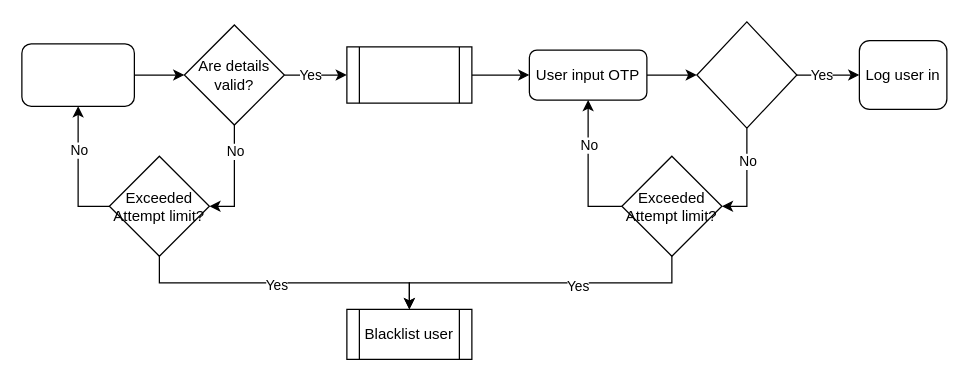
Image size: 969x381. Some labels were removed from this diagram. The shapes that lost their labels are listed below. From the top down, each one's centre as x and y in pixels, then its label:
(x=77, y=74): User inputs credentials
(x=409, y=74): Send OTP to the user
(x=746, y=74): Is OTP valid
